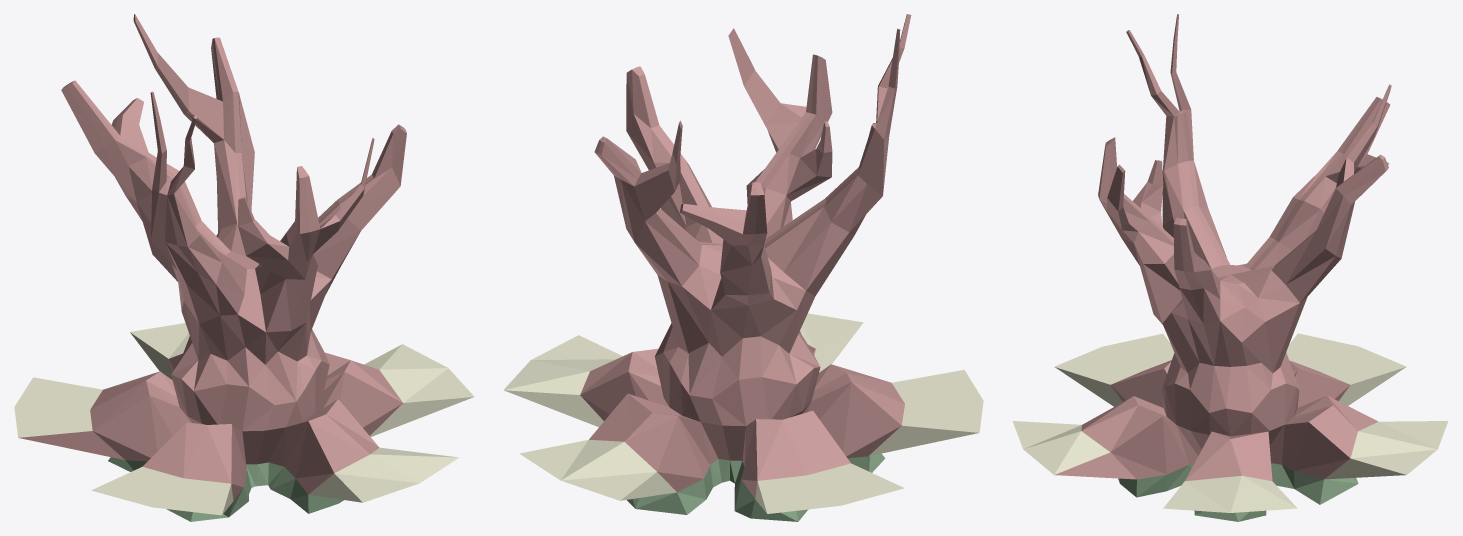
File: Tree_Large.fbx
3 renders of one model, left to right at view 1: azimuth 30°, elevation 25°; view 2: azimuth 150°, elevation 25°; view 3: azimuth 270°, elevation 25°, orthographic. The views are drawn at different scales.
Visible parts, largest first — view 1: pCylinder11; view 2: pCylinder11; view 3: pCylinder11.
Part boxes in pixels (x1,y1,x2,y2): pCylinder11: (14,14,474,521); pCylinder11: (503,14,983,521); pCylinder11: (1012,14,1448,521).
Size of the model in its own units: 24.32 by 25.16 by 24.93.
